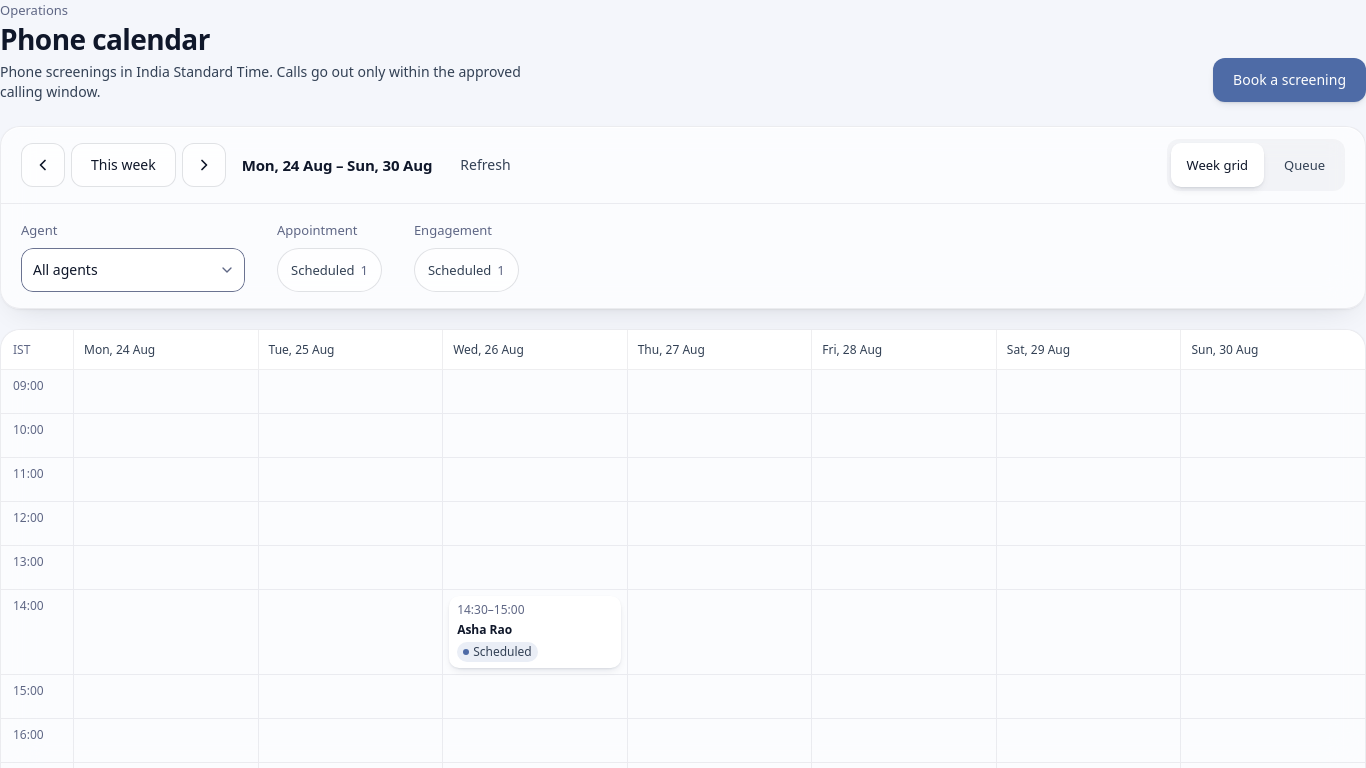
Scenario: roles › lets an admin read and offers the write controls
Click the button "Book a screening" at {"x": 1290, "y": 80}, box [1213,58,1365,102]
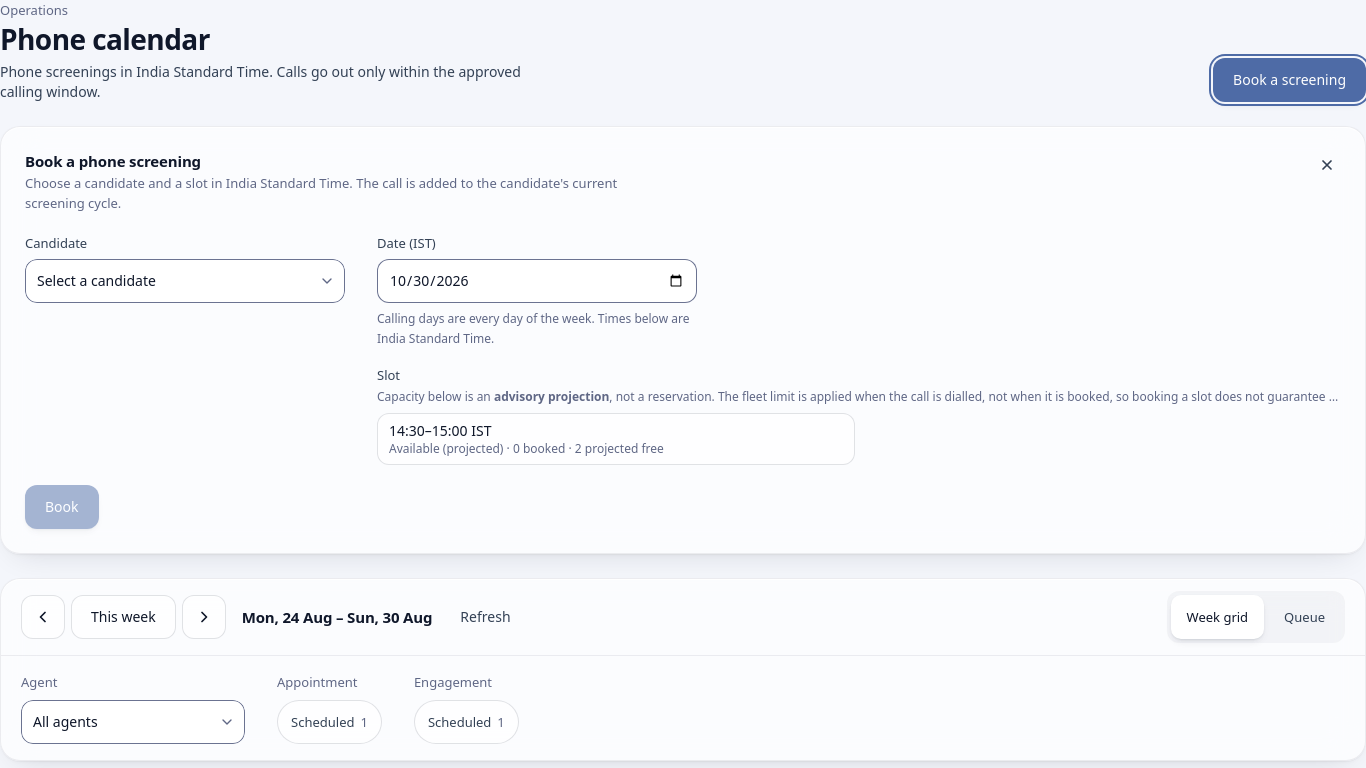
Now the heading "Book a phone screening" is shown, box [25,151,201,171]
